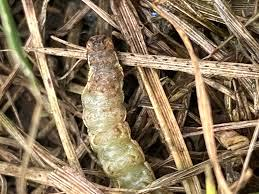Caterpillar: (80, 34, 150, 194)
